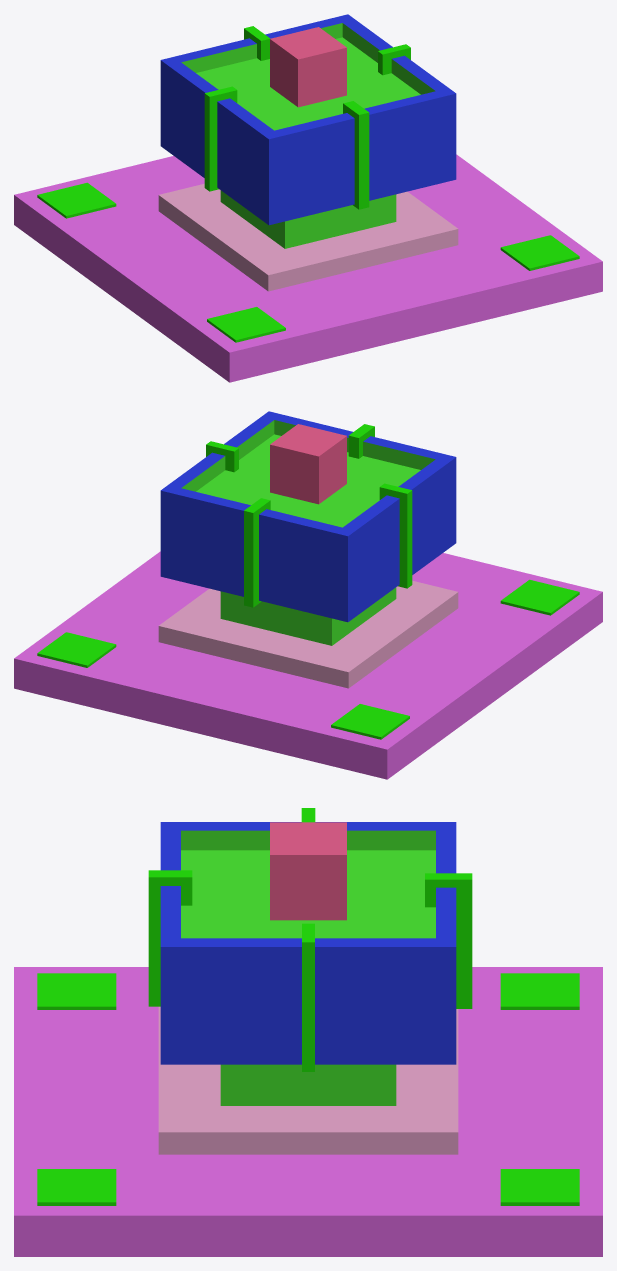
File: rapidFire_Lv2.fbx
3 renders of one model, top to bottom at view 1: azimuth 30°, elevation 25°; view 2: azimuth 150°, elevation 25°; view 3: azimuth 270°, elevation 25°, orthographic. The views are drawn at different scales.
Parts seen in each view (by area): view 1: Cube.002; view 2: Cube.002; view 3: Cube.002.
Boxes of the visible parts, left/top/right/bottom form: Cube.002: left=14, top=14, right=602, bottom=382; Cube.002: left=14, top=411, right=602, bottom=779; Cube.002: left=14, top=808, right=602, bottom=1256.
Size of the model in its own units: 268 by 148 by 268.
